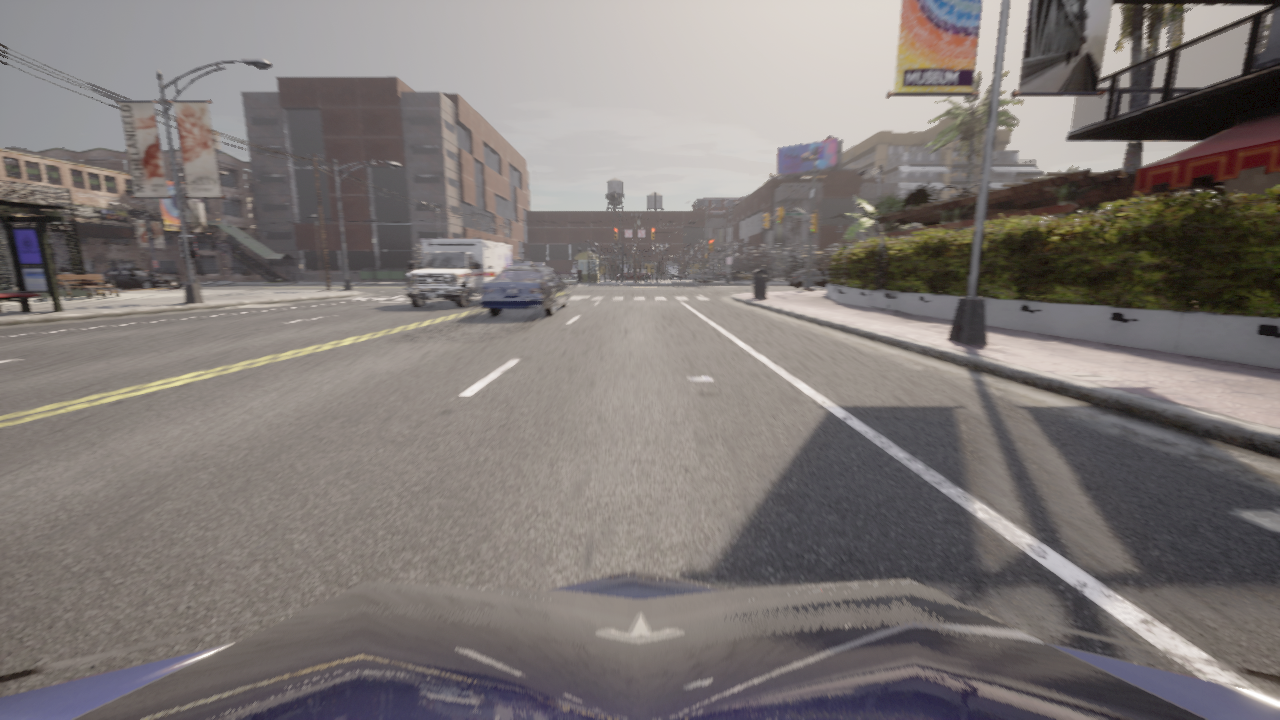cyclist: (0, 569, 1279, 719), (404, 239, 510, 308), (480, 267, 569, 315), (101, 268, 181, 289), (787, 269, 830, 289), (616, 269, 650, 281), (712, 269, 741, 278), (730, 271, 753, 279), (666, 265, 677, 278), (719, 271, 735, 279), (534, 263, 552, 269), (511, 262, 534, 266), (571, 265, 578, 278), (623, 265, 629, 272), (56, 271, 60, 273), (726, 276, 727, 277)
